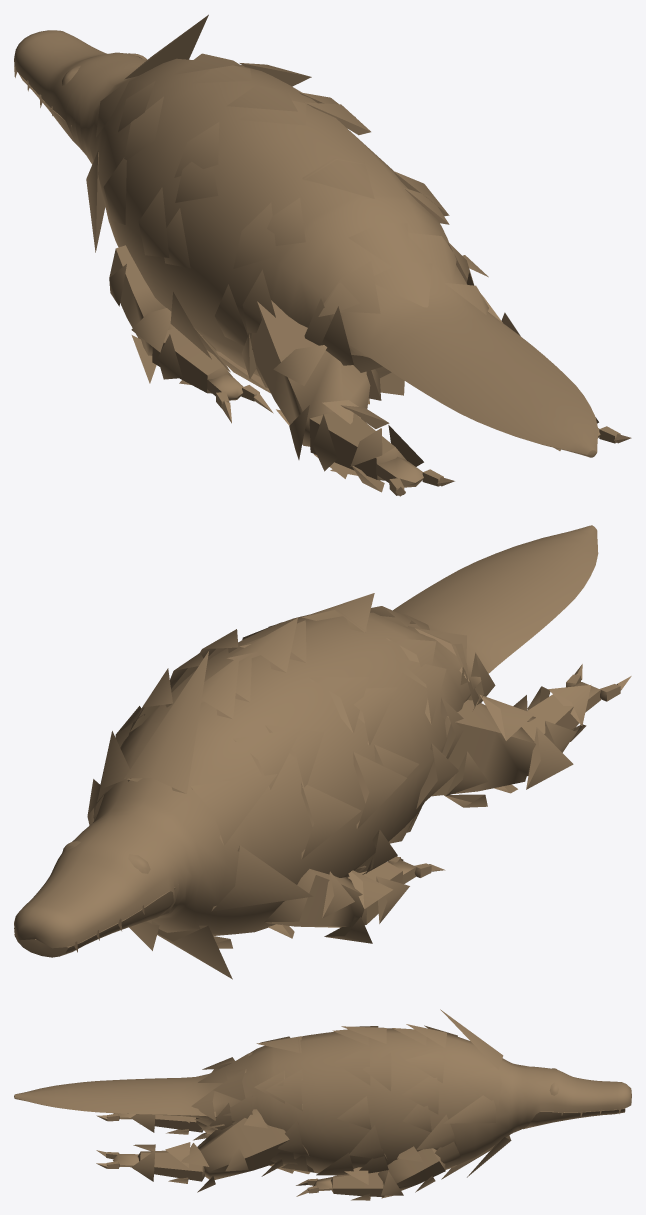
File: river_beast_lo.glb
3 views of the same model, one above another, from view 1: azimuth 30°, elevation 25°; view 2: azimuth 150°, elevation 25°; view 3: azimuth 270°, elevation 25° (orthographic). The views are drawn at different scales.
Parts seen in each view (by area): view 1: river_beast_lo; view 2: river_beast_lo; view 3: river_beast_lo.
Boxes of the visible parts, x1,y1,x2,y2 form: river_beast_lo: [14, 14, 631, 496]; river_beast_lo: [14, 525, 631, 979]; river_beast_lo: [14, 1009, 631, 1200].
Bounding box in the file's own units: 1.09 × 1.26 × 3.94.
